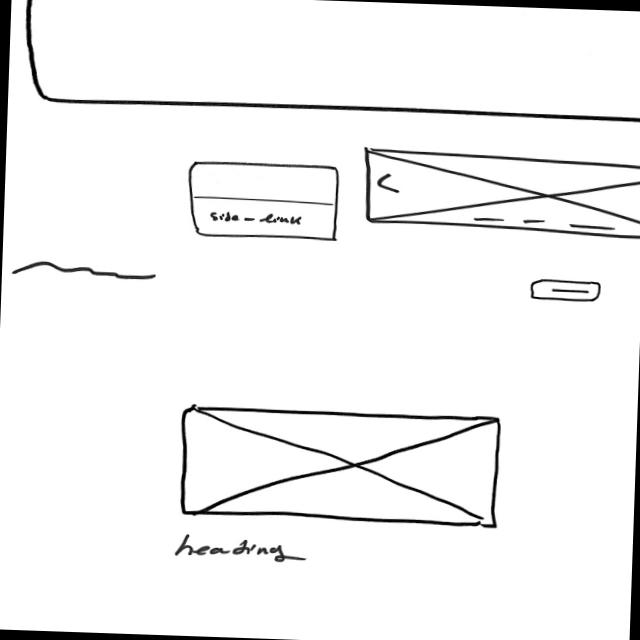container: (22, 1, 640, 123), (185, 159, 342, 243)
icon-button: (529, 277, 603, 305)
image: (176, 404, 504, 531), (361, 145, 640, 239)
label: (173, 534, 307, 565), (210, 212, 305, 227)
text: (12, 260, 158, 282)
